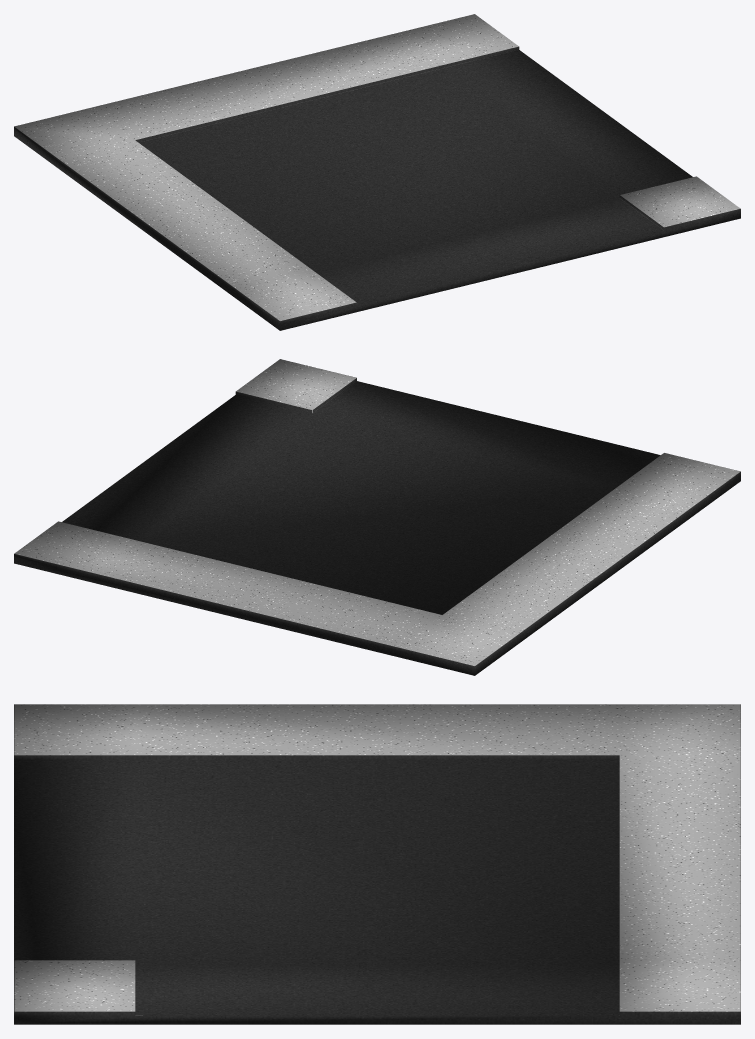
Rendered from ROAD_15x15_turn.obj.
3 renders of one model, top to bottom at view 1: azimuth 30°, elevation 25°; view 2: azimuth 150°, elevation 25°; view 3: azimuth 270°, elevation 25°, orthographic. The views are drawn at different scales.
Visible parts, largest first — view 1: grid1_grid1_auv; view 2: grid1_grid1_auv; view 3: grid1_grid1_auv.
Part boxes in pixels (x1,y1,x2,y2): grid1_grid1_auv: (14, 14, 740, 330); grid1_grid1_auv: (14, 359, 740, 675); grid1_grid1_auv: (14, 704, 740, 1024).
Size of the model in its own units: 15 by 0.3 by 15.
